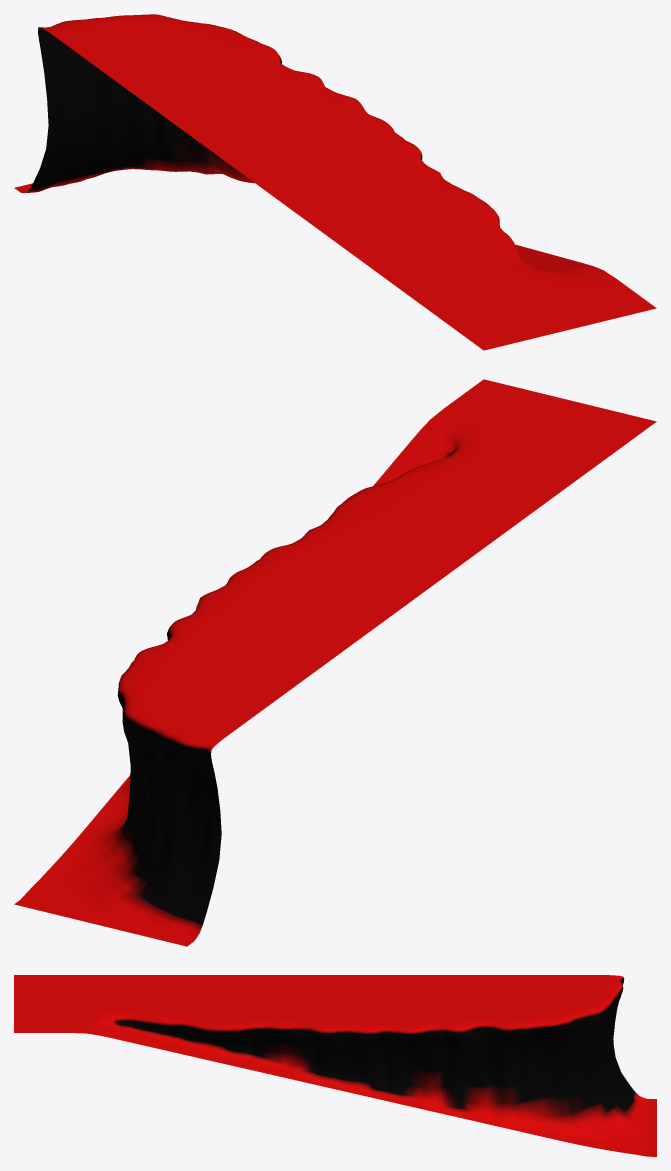
File: ClimbCliff01C 2M Foreground.fbx
3 renders of one model, top to bottom at view 1: azimuth 30°, elevation 25°; view 2: azimuth 150°, elevation 25°; view 3: azimuth 270°, elevation 25°, orthographic. The views are drawn at different scales.
Parts seen in each view (by area): view 1: ClimbCliff01C 2M Foreground; view 2: ClimbCliff01C 2M Foreground; view 3: ClimbCliff01C 2M Foreground.
Part boxes in pixels (x1,y1,x2,y2): ClimbCliff01C 2M Foreground: (14,14,656,350); ClimbCliff01C 2M Foreground: (14,379,656,946); ClimbCliff01C 2M Foreground: (14,975,656,1156).
Bounding box in the file's own units: 2 × 2 × 9.4.
